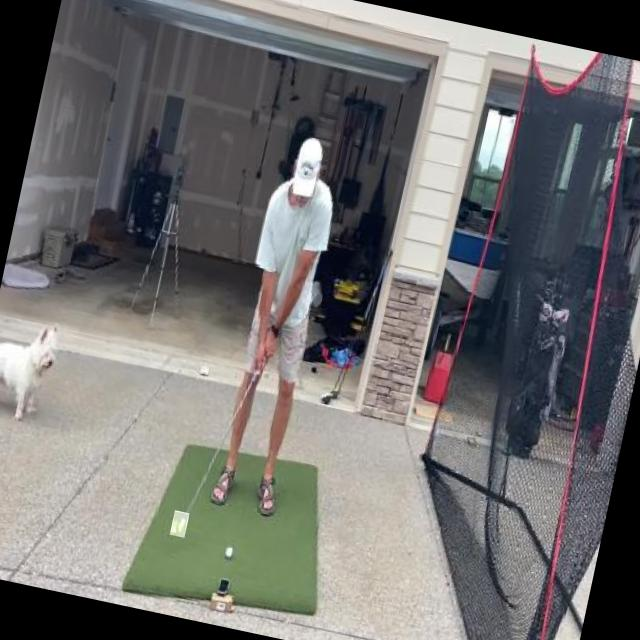club head: (169, 510, 189, 537)
